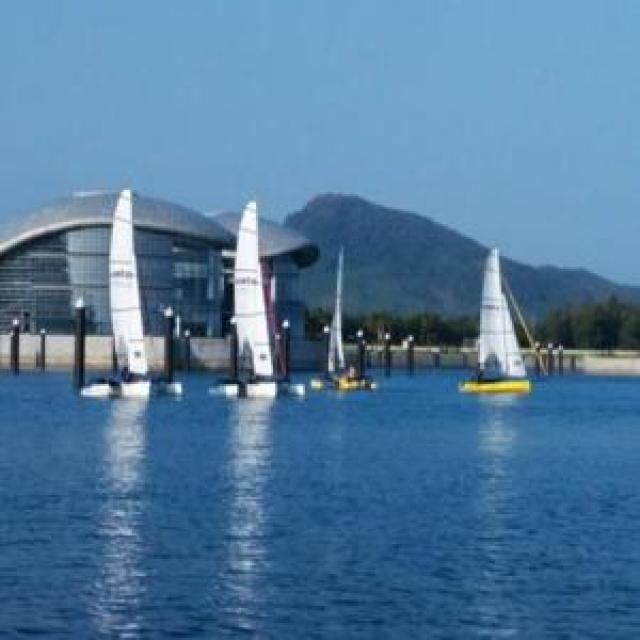sailboat: (73, 178, 182, 398), (208, 196, 285, 401), (460, 248, 532, 394), (320, 243, 380, 395)
